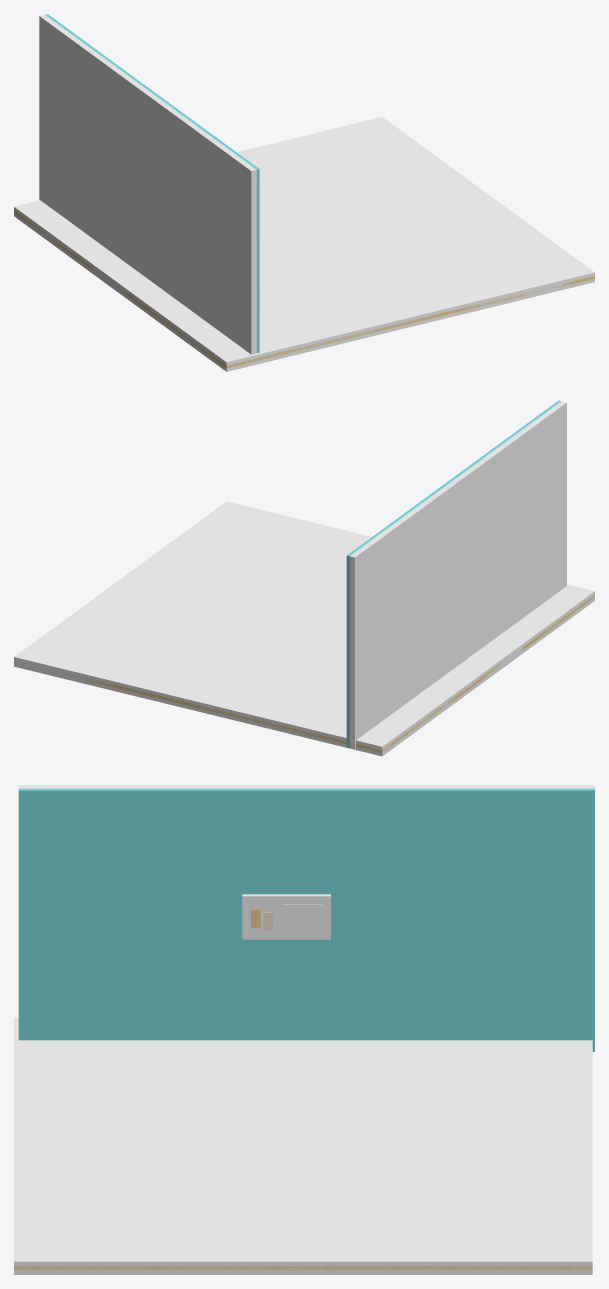
3 views of the same model, one above another, from view 1: azimuth 30°, elevation 25°; view 2: azimuth 150°, elevation 25°; view 3: azimuth 270°, elevation 25° (orthographic). The views are drawn at different scales.
Size of the model in its own units: 2000 by 1002 by 2008.
